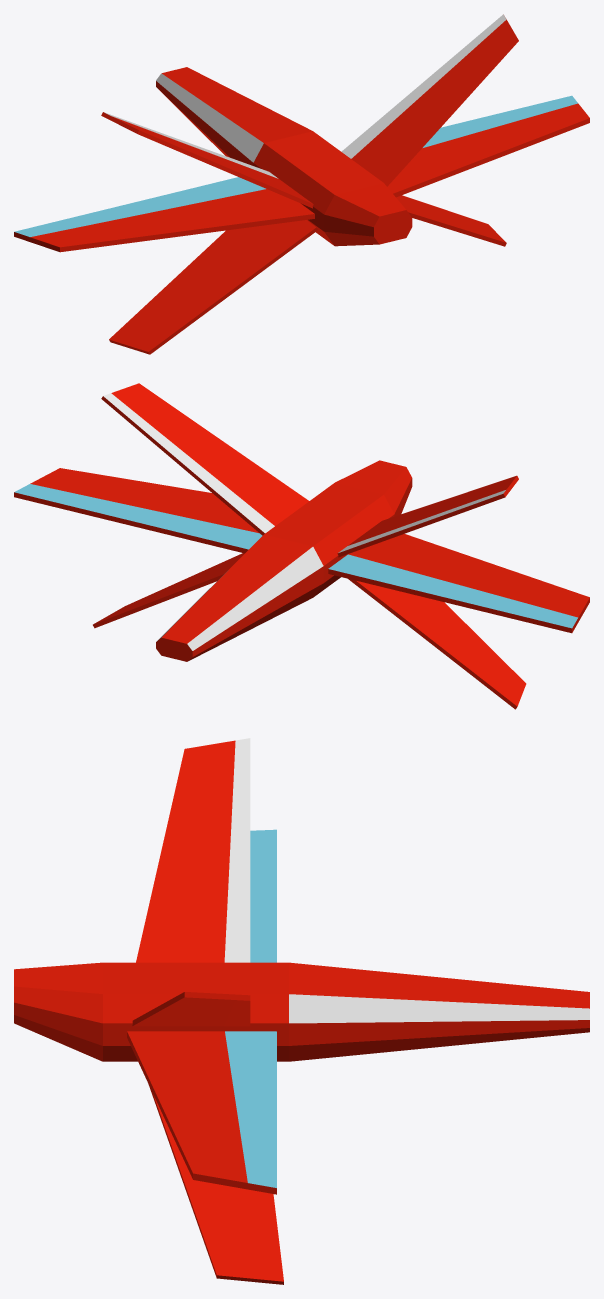
The picture shows the model from 3 angles, top to bottom: view 1: azimuth 30°, elevation 25°; view 2: azimuth 150°, elevation 25°; view 3: azimuth 270°, elevation 25°; orthographic projection. The views are drawn at different scales.
Parts seen in each view (by area): view 1: midwing, Cube, topwing, topwing.001; view 2: midwing, Cube, topwing, topwing.001; view 3: Cube, topwing, midwing, topwing.001.
Part boxes in pixels (x1,y1,x2,y2): midwing: (14, 95, 589, 252); Cube: (156, 67, 412, 246); topwing: (101, 14, 518, 208); topwing.001: (109, 195, 506, 354); midwing: (14, 468, 589, 633); Cube: (156, 460, 412, 661); topwing: (101, 383, 518, 557); topwing.001: (93, 553, 526, 709); Cube: (14, 962, 589, 1061); topwing: (132, 738, 250, 1026); midwing: (127, 829, 276, 1194); topwing.001: (148, 1084, 283, 1284).
Size of the model in its own units: 1123 by 428 by 762.
